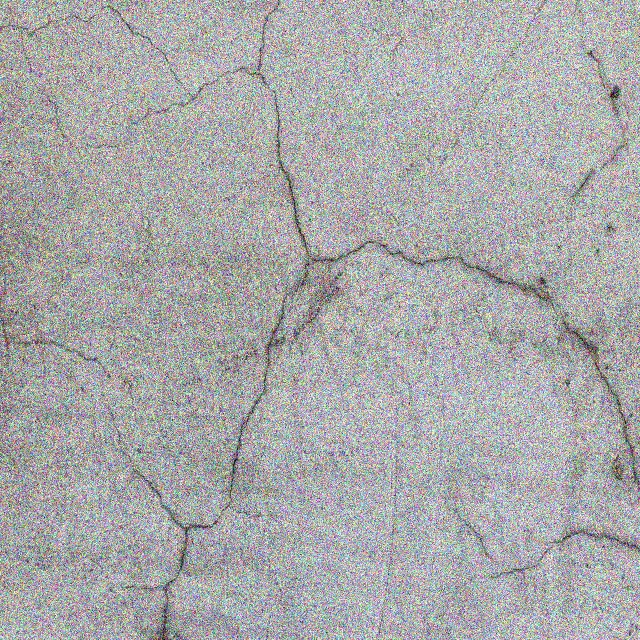SurfaceCrack: (163, 0, 388, 640), (439, 497, 640, 639)
